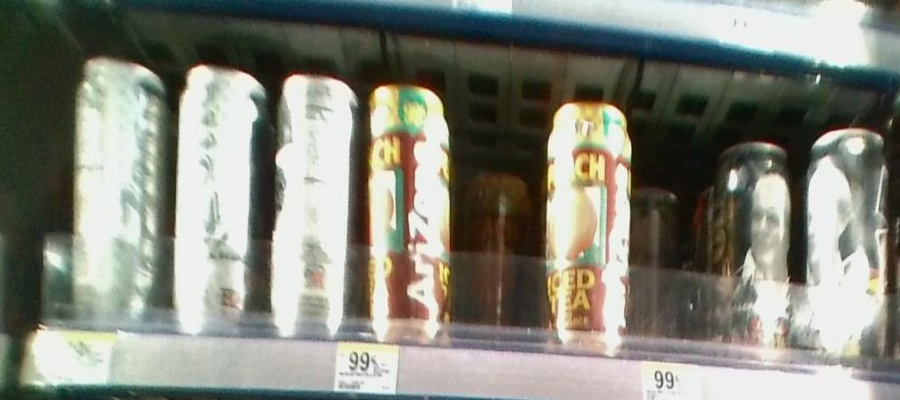bottle: (61, 48, 167, 326), (170, 62, 268, 338), (364, 62, 454, 346), (271, 56, 359, 342), (545, 104, 635, 354), (800, 121, 892, 356), (717, 138, 794, 353), (462, 141, 533, 346), (636, 182, 679, 342)
